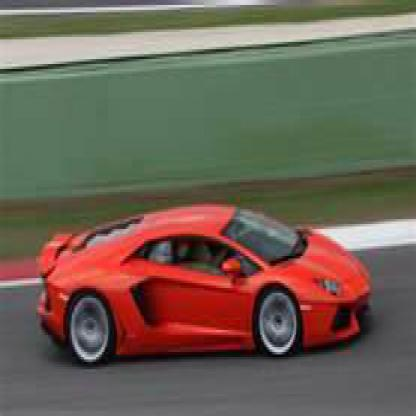Vehicle: (24, 197, 381, 374)
